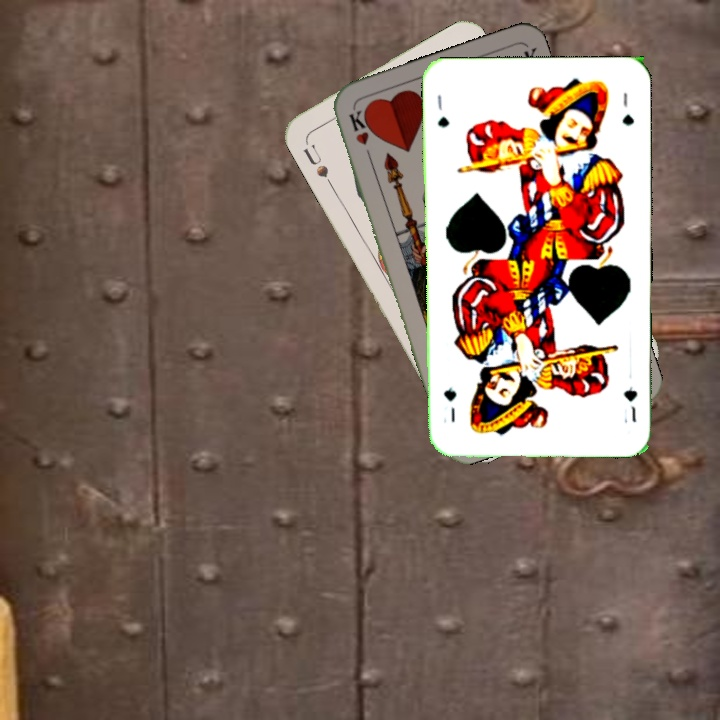GU: (620, 383, 640, 426), (433, 91, 452, 130)
HK: (345, 106, 375, 164)
SU: (299, 140, 332, 181)
